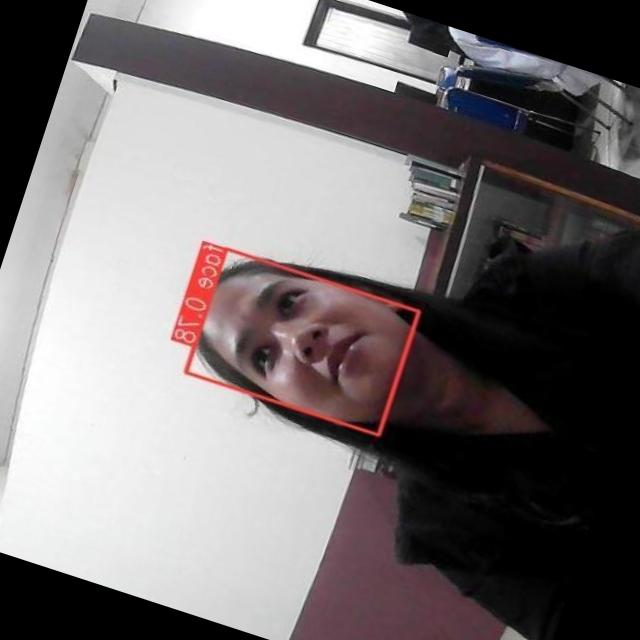bareface: (159, 236, 435, 444)
